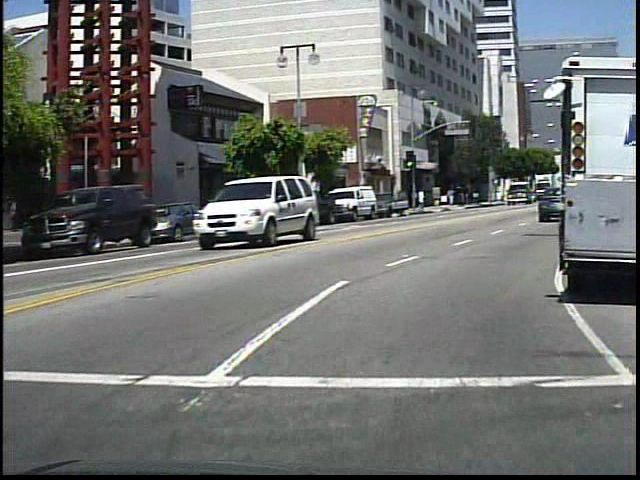person: (416, 187, 431, 215)
